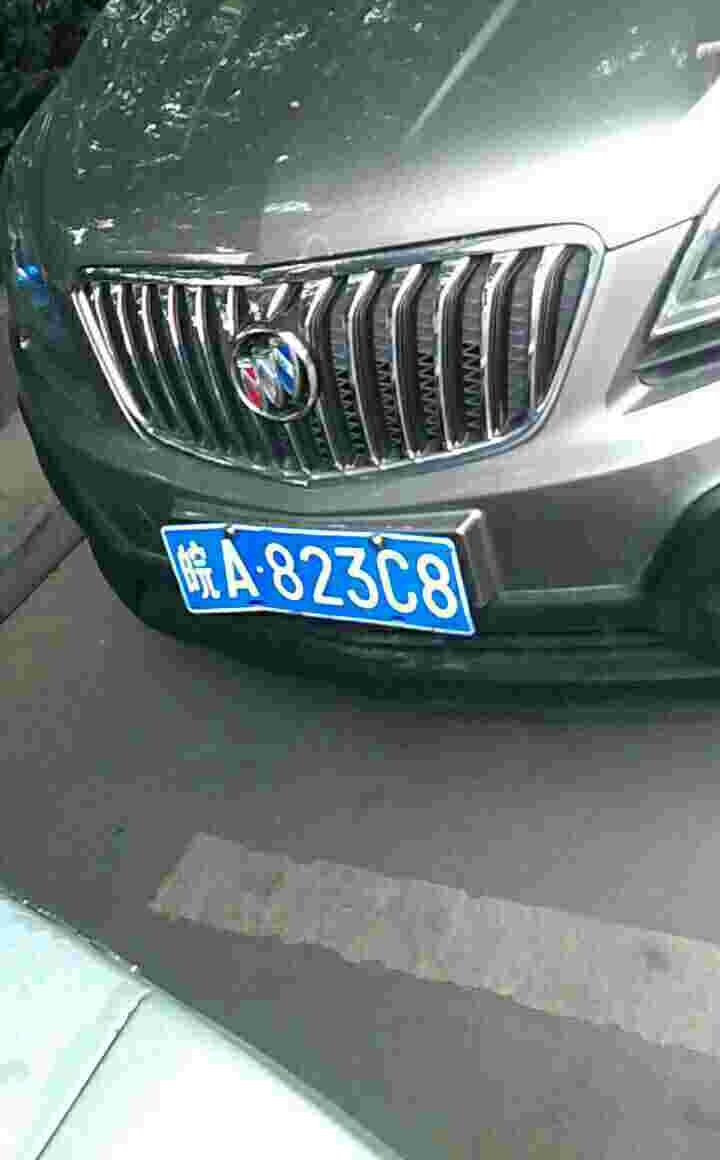license_plate: (174, 524, 466, 631)
